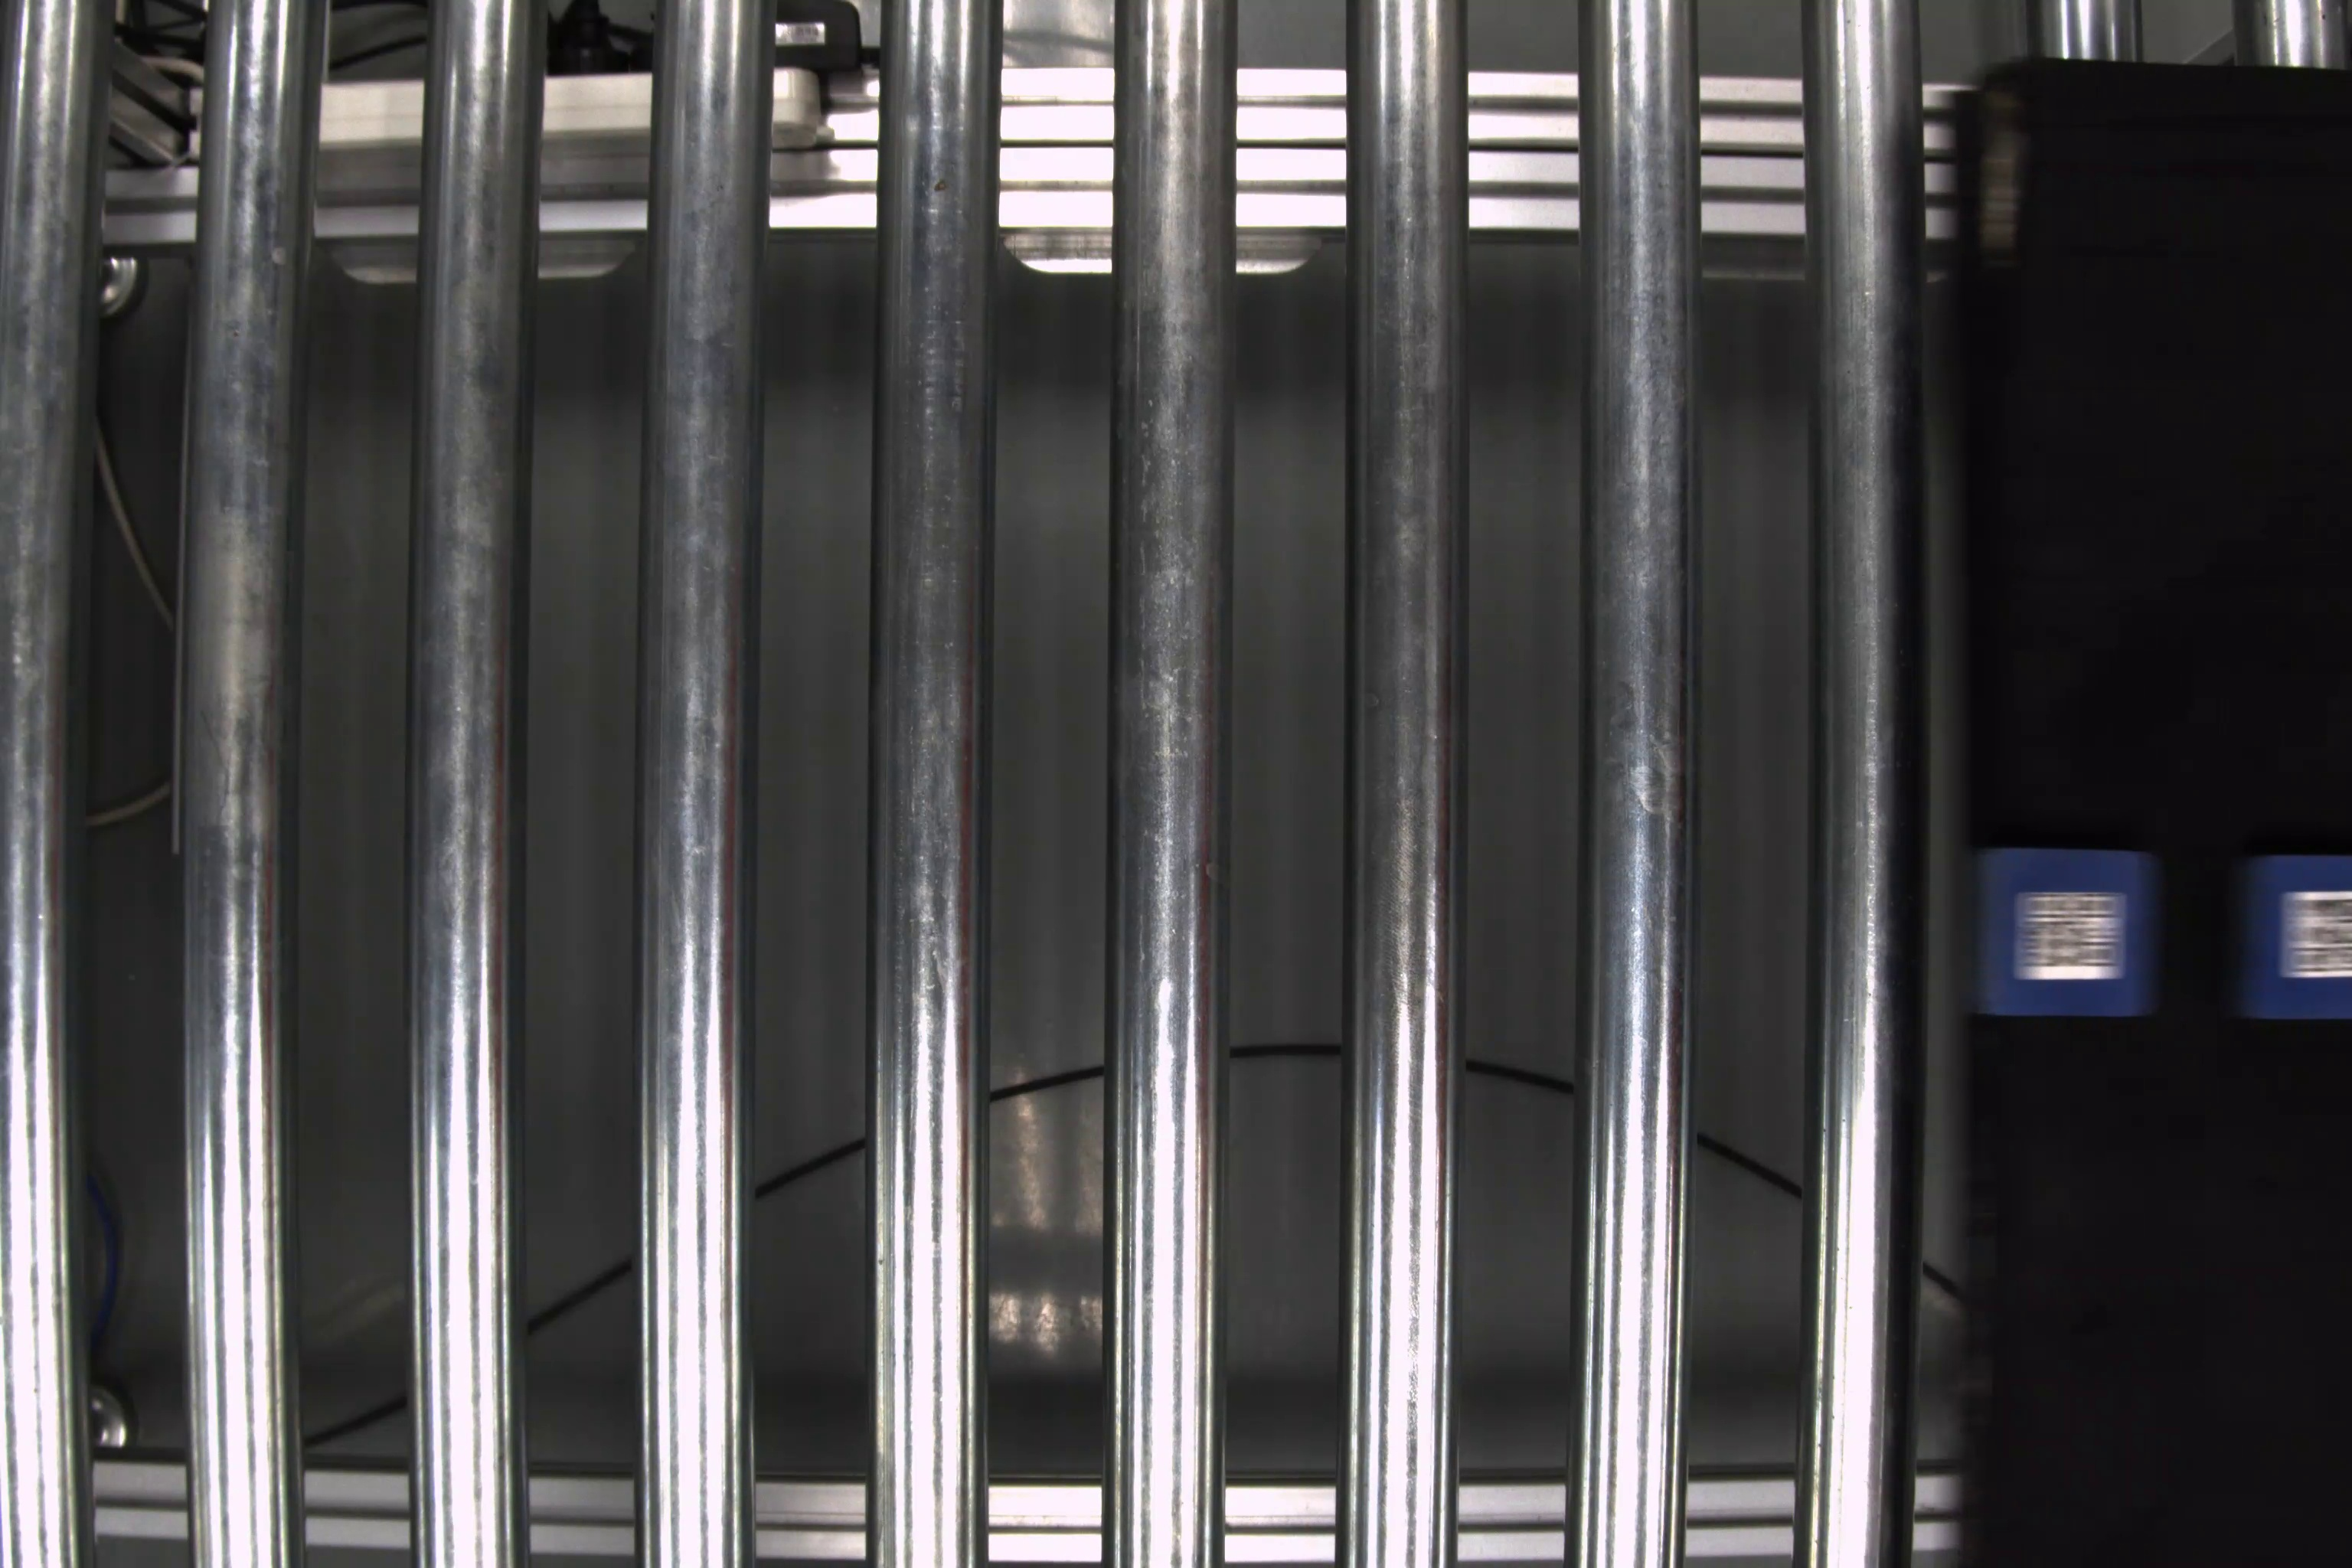wood: (1963, 842, 2163, 1022), (2240, 850, 2350, 1029)
